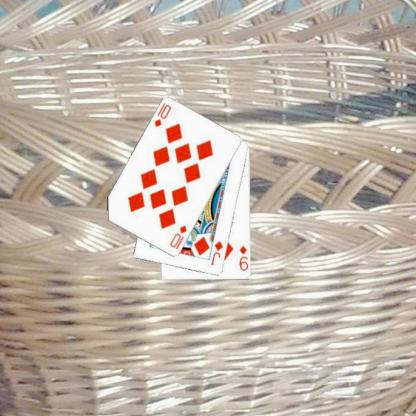10D: (167, 223, 188, 251), (152, 100, 172, 129)
9D: (236, 243, 248, 272)
JD: (208, 238, 224, 267)
